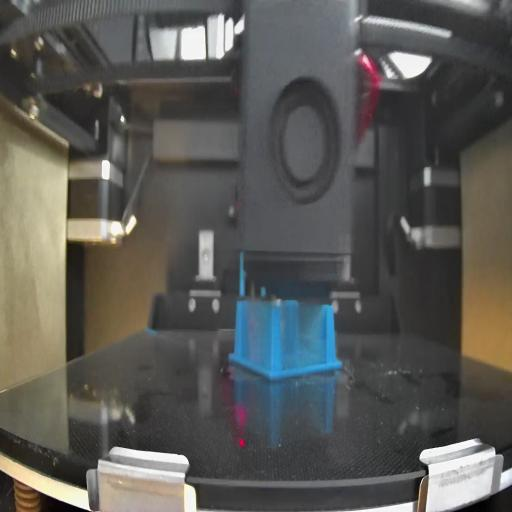stringing: (282, 307, 328, 373), (241, 306, 271, 367)
